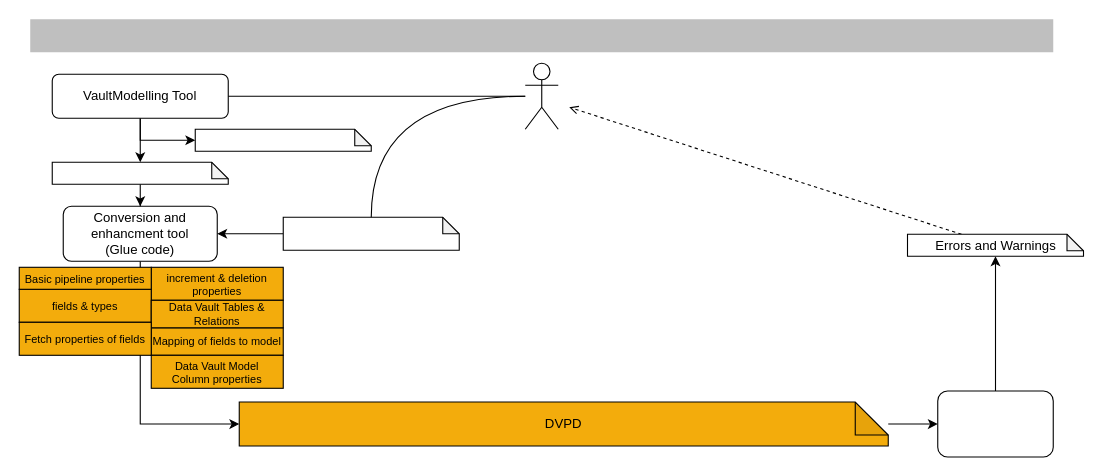
Some shapes in this 1103 by 476 pixel diagram are drawn without their labels. Each missing label, with the centre of its shape:
DVPD Compiler: the point at 995,423
DWH Developer: the point at 541,95
Example C: Modelling tool: the point at 541,35
Model Documentation: the point at 282,139
Pipeline properties Excel Sheet: the point at 370,233
Tool metadata export: the point at 139,172
